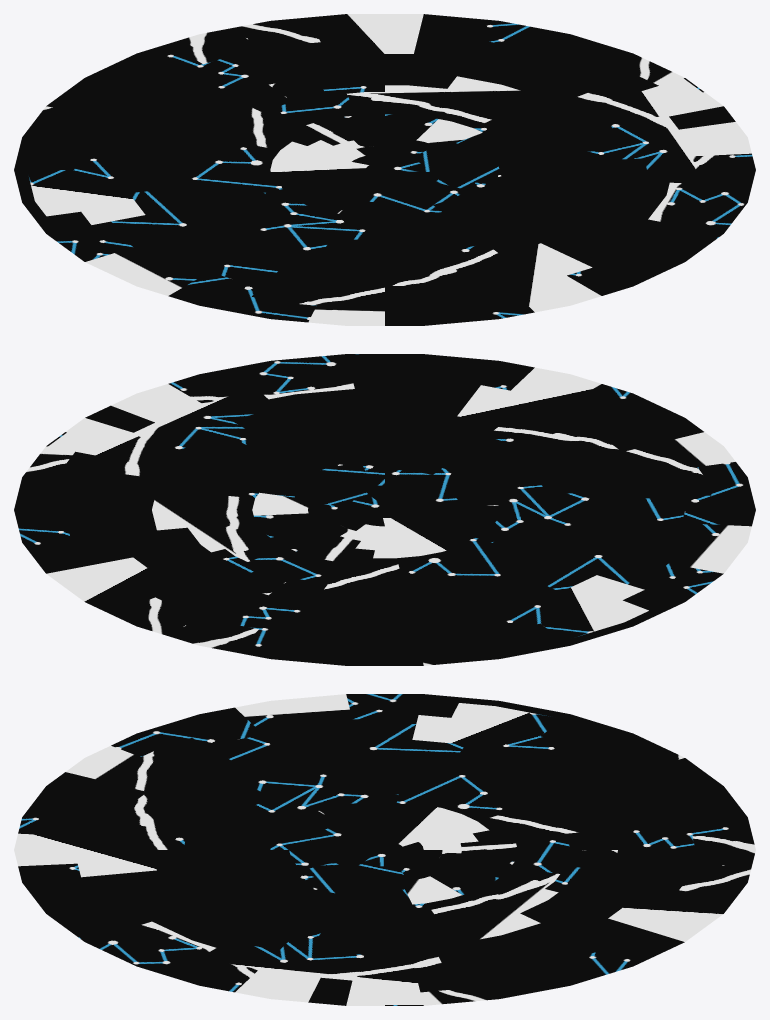
Rendered from sectors.fbx.
The picture shows the model from 3 angles, top to bottom: view 1: azimuth 30°, elevation 25°; view 2: azimuth 150°, elevation 25°; view 3: azimuth 270°, elevation 25°; orthographic projection.
Parts seen in each view (by area): view 1: sectors.017, sectors.008, sectors.012, sectors.001, sectors.005, sectors.015, sectors.003, sectors.020, sectors.023, sectors.021, sectors.025, sectors.022 (+18 smaller); view 2: sectors.017, sectors.008, sectors.012, sectors.001, sectors.005, sectors.015, sectors.003, sectors.020, sectors.023, sectors.021, sectors.025, sectors.022 (+18 smaller); view 3: sectors.017, sectors.008, sectors.012, sectors.001, sectors.005, sectors.015, sectors.003, sectors.020, sectors.023, sectors.021, sectors.025, sectors.022 (+18 smaller).
Part boxes in pixels (x1=…): sectors.017: x1=252, y1=237, x2=601, y2=325; sectors.008: x1=111, y1=14, x2=423, y2=111; sectors.012: x1=22, y1=78, x2=223, y2=224; sectors.001: x1=509, y1=158, x2=730, y2=274; sectors.005: x1=385, y1=24, x2=658, y2=108; sectors.015: x1=85, y1=189, x2=296, y2=295; sectors.003: x1=546, y1=78, x2=751, y2=169; sectors.020: x1=456, y1=117, x2=619, y2=205; sectors.023: x1=152, y1=135, x2=296, y2=219; sectors.021: x1=367, y1=175, x2=556, y2=255; sectors.025: x1=344, y1=76, x2=560, y2=131; sectors.022: x1=222, y1=186, x2=384, y2=257; sectors.017: x1=457, y1=367, x2=735, y2=500; sectors.008: x1=46, y1=549, x2=357, y2=662; sectors.012: x1=331, y1=575, x2=648, y2=665; sectors.001: x1=212, y1=354, x2=480, y2=440; sectors.005: x1=14, y1=451, x2=210, y2=569; sectors.015: x1=531, y1=496, x2=751, y2=592; sectors.003: x1=46, y1=384, x2=275, y2=481; sectors.020: x1=171, y1=420, x2=384, y2=498; sectors.023: x1=397, y1=533, x2=585, y2=599; sectors.021: x1=324, y1=414, x2=537, y2=489; sectors.025: x1=152, y1=472, x2=320, y2=561; sectors.022: x1=451, y1=481, x2=602, y2=544; sectors.017: x1=14, y1=738, x2=271, y2=877; sectors.008: x1=545, y1=793, x2=751, y2=941; sectors.012: x1=412, y1=703, x2=723, y2=821; sectors.001: x1=34, y1=870, x2=296, y2=976; sectors.005: x1=415, y1=892, x2=664, y2=992; sectors.015: x1=210, y1=694, x2=465, y2=775; sectors.003: x1=230, y1=921, x2=443, y2=1005; sectors.020: x1=222, y1=882, x2=436, y2=954; sectors.023: x1=364, y1=752, x2=547, y2=821; sectors.021: x1=152, y1=808, x2=317, y2=901; sectors.025: x1=402, y1=858, x2=559, y2=941; sectors.022: x1=239, y1=765, x2=398, y2=833.
Size of the model in its own units: 199 by 2.38e-05 by 200.
